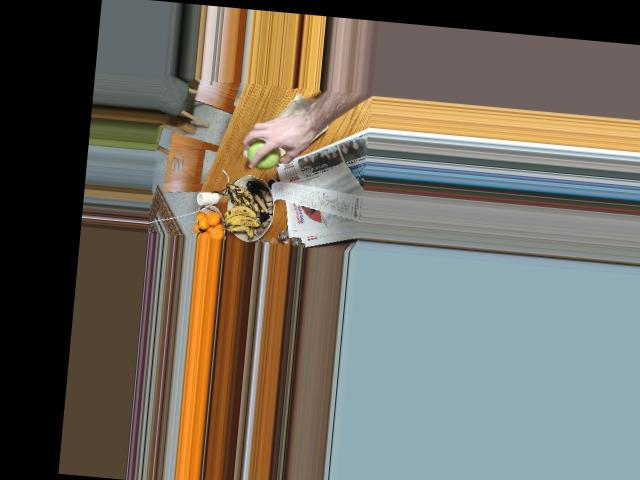apple: (244, 135, 284, 170)
